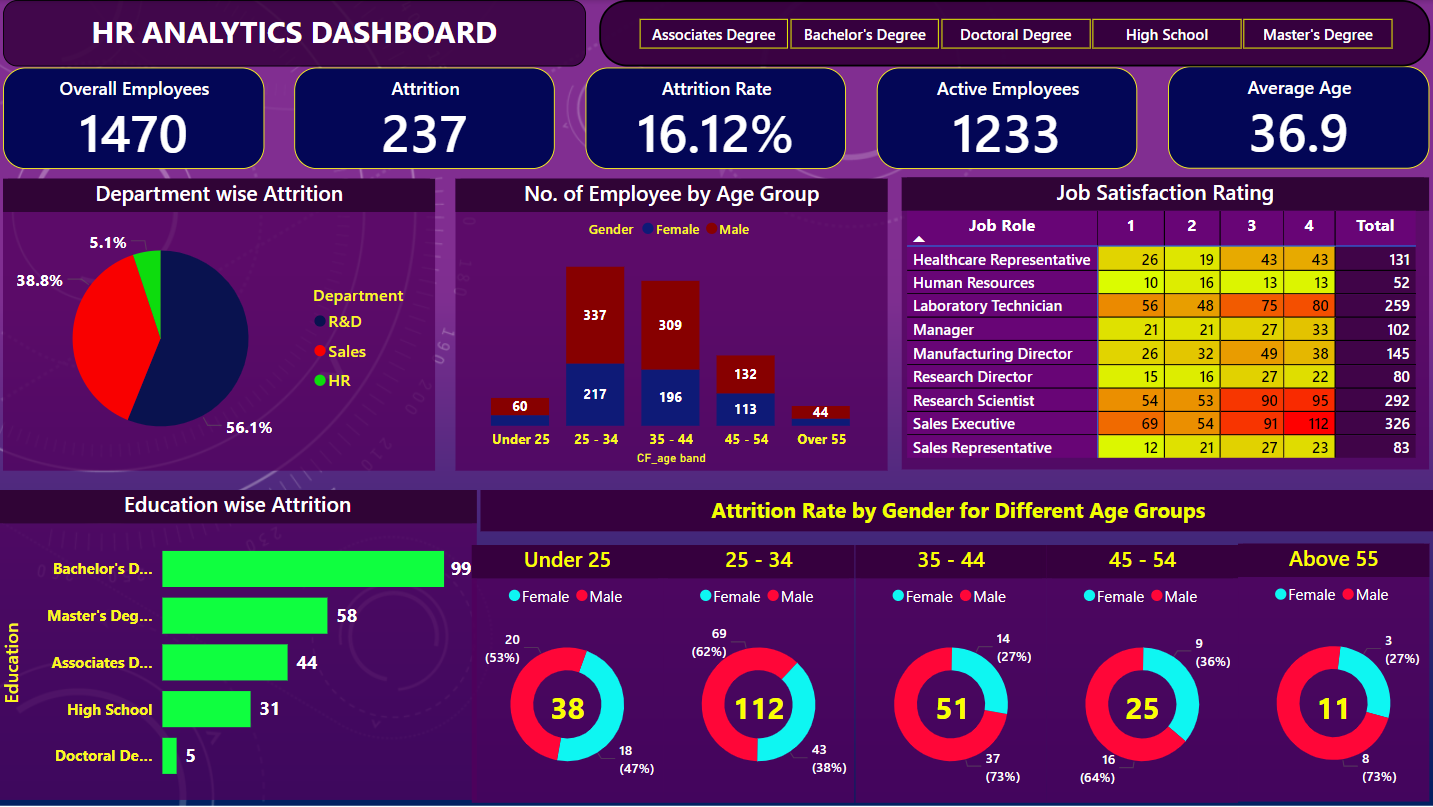

Layout of this report page (visuals, bound fields, positions):
{"tool":"powerbi","page":{"name":"Page 1","canvas":[1280,720],"ordinal":0},"visuals":[{"type":"card","title":"Overall Employees","fields":{"Values":["Sum(HR data.Employee Count)"]},"box":[5,59.4,232.5,90],"z":0,"group":"g1"},{"type":"group","id":"g1","title":"Group 1","box":[5,58.8,1270,91.2],"z":0},{"type":"card","title":"Attrition","fields":{"Values":["Sum(HR data.Attrition Count)"]},"box":[264.8,59.4,232,90],"z":1000,"group":"g1"},{"type":"pieChart","title":"Department wise Attrition","fields":{"Category":["HR data.Department"],"Y":["Sum(HR data.Attrition Count)"]},"box":[5,158.8,385,260],"z":1000},{"type":"card","title":"Attrition Rate","fields":{"Values":["HR data.Attrition Rate"]},"box":[524,59.4,232,90],"z":2000,"group":"g1"},{"type":"columnChart","title":"No. of Employee by Age Group","fields":{"Category":["HR data.CF_age band"],"Y":["Sum(HR data.Employee Count)"],"Series":["HR data.Gender"]},"box":[407.5,158.8,385,260],"z":2000},{"type":"card","title":"Active Employees","fields":{"Values":["HR data.Active Employees"]},"box":[783.2,59.4,232,90],"z":3000,"group":"g1"},{"type":"pivotTable","title":"Job Satisfaction Rating","fields":{"Rows":["HR data.Job Role"],"Columns":["HR data.Job Satisfaction"],"Values":["Sum(HR data.Employee Count)"]},"box":[804.9,158.3,469.9,260.1],"z":3000},{"type":"card","title":"Average Age","fields":{"Values":["Avg(HR data.Age)"]},"box":[1042.5,58.8,232.5,91.2],"z":4000,"group":"g1"},{"type":"barChart","title":"Education wise Attrition","fields":{"Category":["HR data.Education"],"Y":["Sum(HR data.Attrition Count)"]},"box":[0,436.4,426.8,275.8],"z":4000},{"type":"donutChart","title":"Under 25","fields":{"Category":["HR data.Gender"],"Y":["Sum(HR data.Attrition Count)"],"Series":["HR data.CF_age band"]},"box":[422.1,485.9,170.6,229.4],"z":5000},{"type":"textbox","box":[429.5,436.4,850.8,37],"z":6000},{"type":"donutChart","title":"25 - 34","fields":{"Category":["HR data.Gender"],"Y":["Sum(HR data.Attrition Count)"],"Series":["HR data.CF_age band"]},"box":[592.6,485.9,170.6,229.4],"z":7000},{"type":"donutChart","title":"35 -  44","fields":{"Category":["HR data.Gender"],"Y":["Sum(HR data.Attrition Count)"],"Series":["HR data.CF_age band"]},"box":[763.2,485.9,170.6,229.4],"z":8000},{"type":"donutChart","title":"45 - 54","fields":{"Category":["HR data.Gender"],"Y":["Sum(HR data.Attrition Count)"],"Series":["HR data.CF_age band"]},"box":[933.7,485.9,170.6,229.4],"z":9000},{"type":"donutChart","title":"Above 55","fields":{"Category":["HR data.Gender"],"Y":["Sum(HR data.Attrition Count)"],"Series":["HR data.CF_age band"]},"box":[1104.3,484.7,170.6,229.4],"z":10000},{"type":"card","fields":{"Values":["Sum(HR data.Attrition Count)"]},"box":[479.8,612.3,55.2,38],"z":11000},{"type":"card","fields":{"Values":["Sum(HR data.Attrition Count)"]},"box":[991.4,612.3,55.2,38],"z":12000},{"type":"card","fields":{"Values":["Sum(HR data.Attrition Count)"]},"box":[822.1,612.3,55.2,38],"z":13000},{"type":"card","fields":{"Values":["Sum(HR data.Attrition Count)"]},"box":[649.1,612.3,57.7,38],"z":14000},{"type":"card","fields":{"Values":["Sum(HR data.Attrition Count)"]},"box":[1162,612.3,55.2,38],"z":15000},{"type":"textbox","box":[4.9,0,519,58.9],"z":16000},{"type":"slicer","fields":{"Values":["HR data.Education"]},"box":[535,0,739.9,58.9],"z":17000}]}

Visuals, with their boxes in screenshot pixels (x1, y1, x2, y2), scaled from the page's 1280x720 canvas onto the 1433x807 screenshot:
"Overall Employees" card: left=6, top=67, right=266, bottom=167
"Group 1" group: left=6, top=66, right=1427, bottom=168
"Attrition" card: left=296, top=67, right=556, bottom=167
"Department wise Attrition" pieChart: left=6, top=178, right=437, bottom=469
"Attrition Rate" card: left=587, top=67, right=846, bottom=167
"No. of Employee by Age Group" columnChart: left=456, top=178, right=887, bottom=469
"Active Employees" card: left=877, top=67, right=1137, bottom=167
"Job Satisfaction Rating" pivotTable: left=901, top=177, right=1427, bottom=469
"Average Age" card: left=1167, top=66, right=1427, bottom=168
"Education wise Attrition" barChart: left=0, top=489, right=478, bottom=798
"Under 25" donutChart: left=473, top=545, right=664, bottom=802
textbox: left=481, top=489, right=1432, bottom=531
"25 - 34" donutChart: left=663, top=545, right=854, bottom=802
"35 -  44" donutChart: left=854, top=545, right=1045, bottom=802
"45 - 54" donutChart: left=1045, top=545, right=1236, bottom=802
"Above 55" donutChart: left=1236, top=543, right=1427, bottom=800
card - Sum(HR data.Attrition Count): left=537, top=686, right=599, bottom=729
card - Sum(HR data.Attrition Count): left=1110, top=686, right=1172, bottom=729
card - Sum(HR data.Attrition Count): left=920, top=686, right=982, bottom=729
card - Sum(HR data.Attrition Count): left=727, top=686, right=791, bottom=729
card - Sum(HR data.Attrition Count): left=1301, top=686, right=1363, bottom=729
textbox: left=5, top=0, right=587, bottom=66
slicer - HR data.Education: left=599, top=0, right=1427, bottom=66
